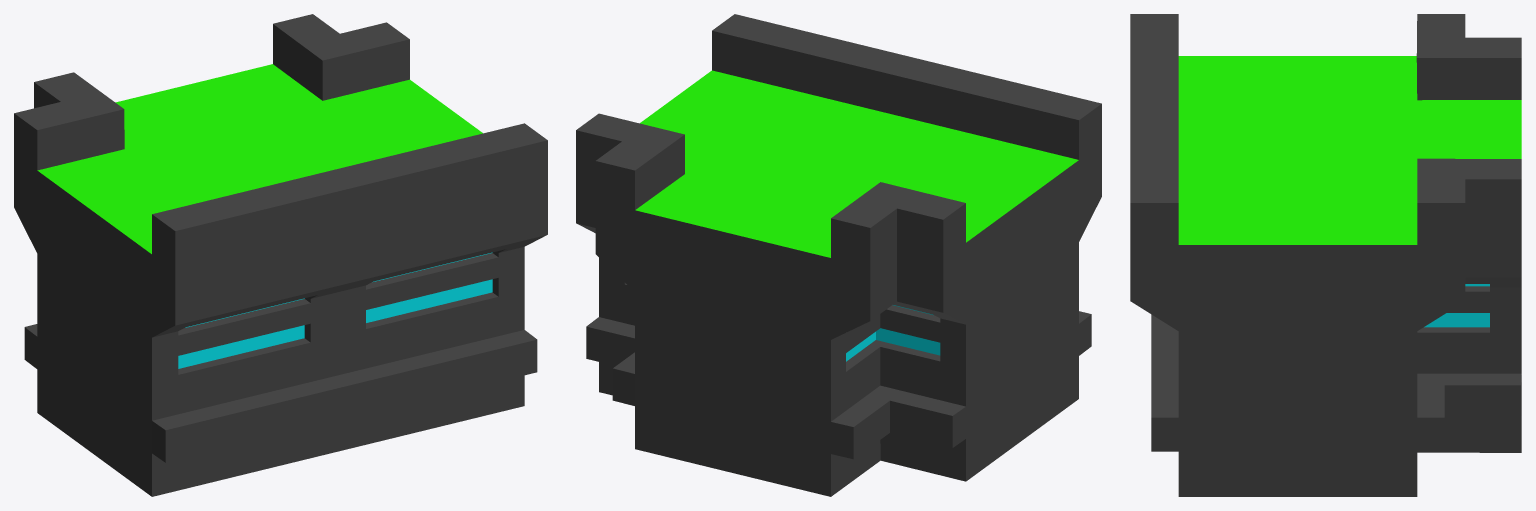
File: Bridge T.fbx
3 renders of one model, left to right at view 1: azimuth 30°, elevation 25°; view 2: azimuth 150°, elevation 25°; view 3: azimuth 270°, elevation 25°, orthographic. The views are drawn at different scales.
Visible parts, largest first — view 1: Bridge T; view 2: Bridge T; view 3: Bridge T.
Boxes of the visible parts, x1,y1,x2,y2 form: Bridge T: [14, 14, 547, 496]; Bridge T: [576, 14, 1101, 496]; Bridge T: [1130, 14, 1521, 496].
Size of the model in its own units: 200 by 145 by 175.
